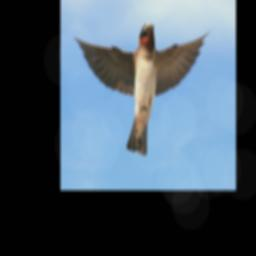Swallow: (73, 21, 213, 157)
